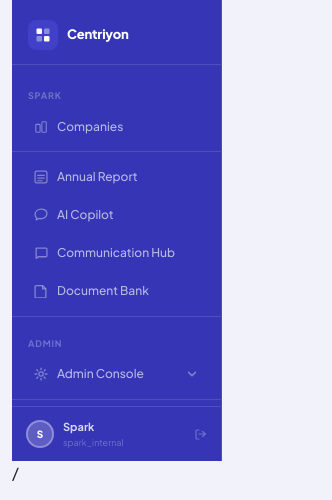
Test case: sidebar for spark_internal › goes to the annual report WITHOUT dropping the client
Click the button "Annual Report": (116, 176) [20,158,213,194]
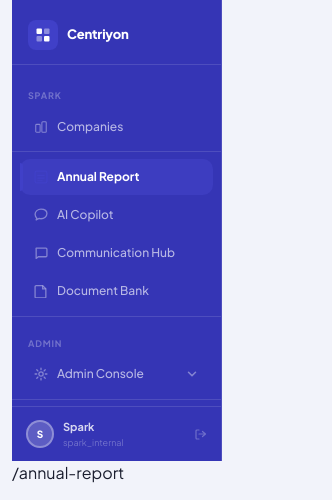
expect the text with test id "path" reads "/annual-report": met, box [12,462,124,483]
